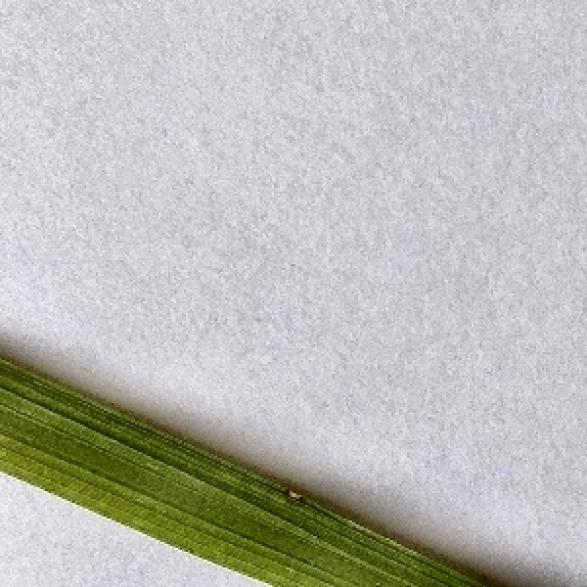Leaf_smut: (270, 482, 303, 516)
